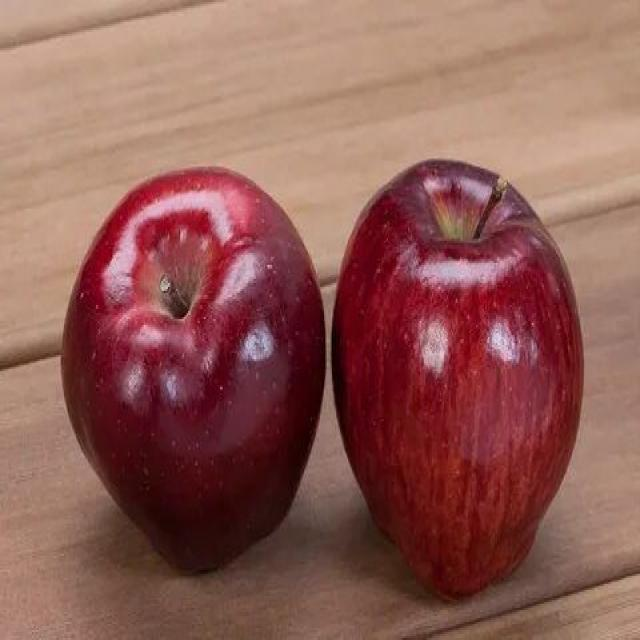Fresh Apple: (338, 168, 580, 564), (75, 182, 308, 550)
